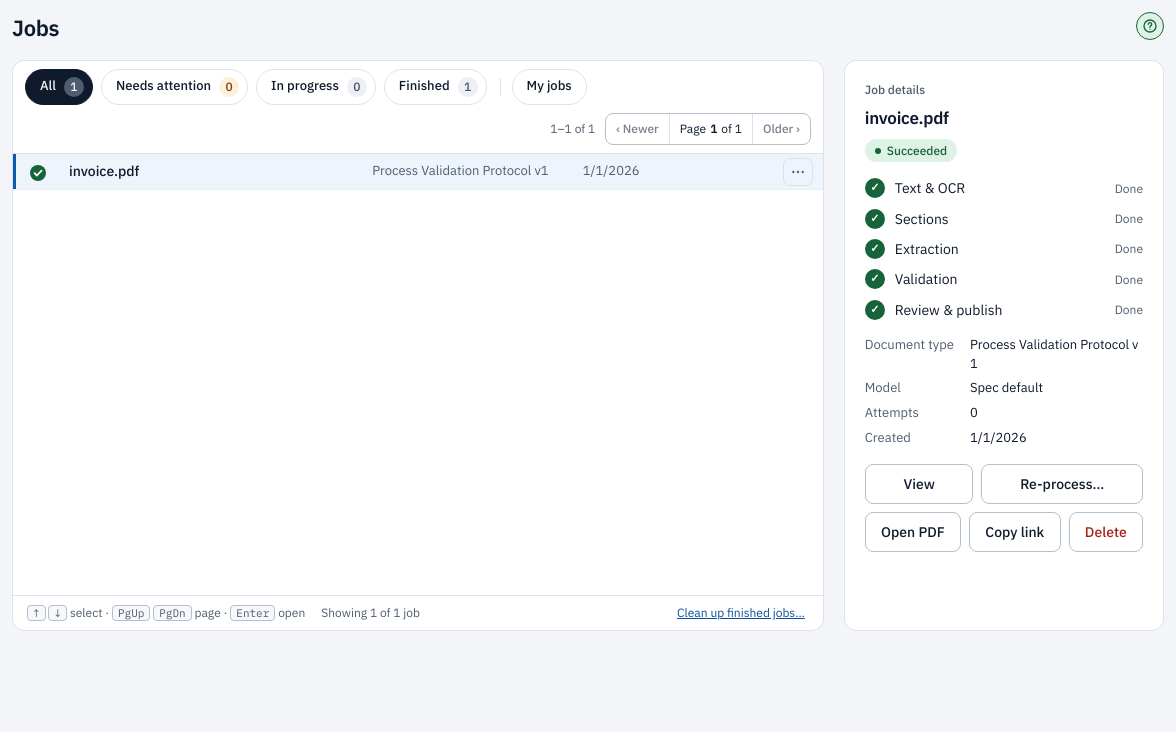
Test: JobsPage › opens the clean-up controls from the footer
The width and height of the screenshot is (1176, 732).
Click the button "Clean up finished jobs…" at x=741, y=613, box [673, 604, 809, 622]
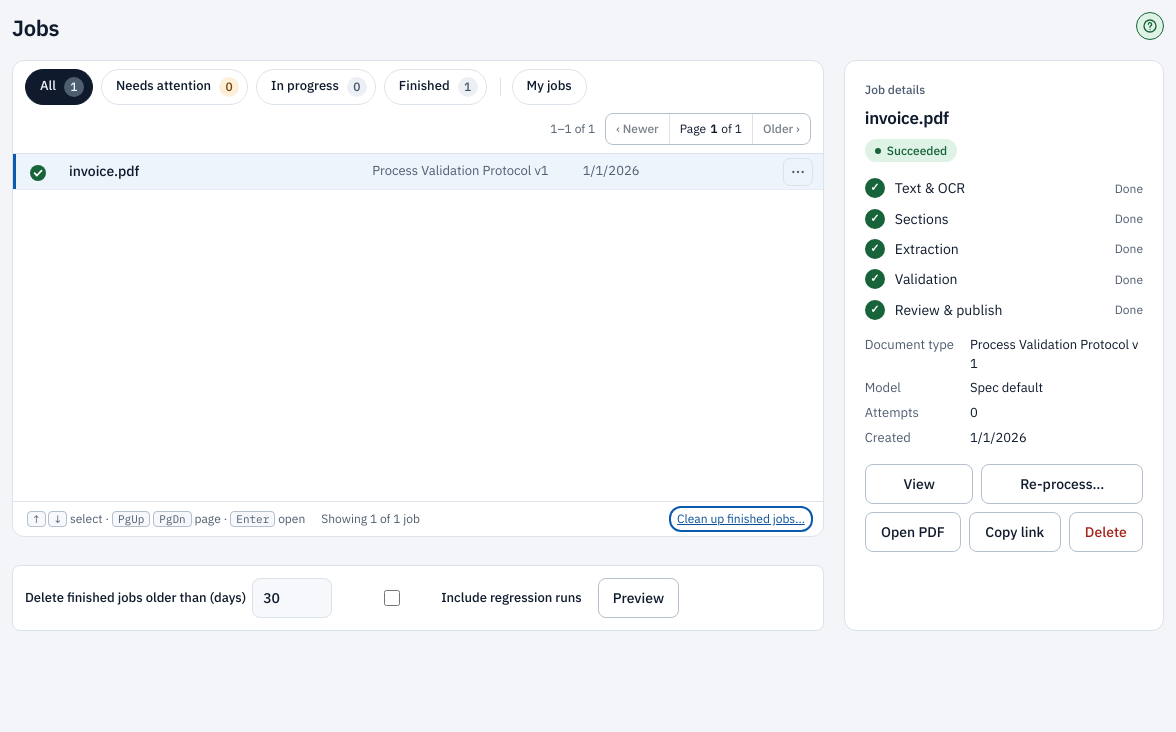
expect the button "Clean up finished jobs…" is expanded: met, box [673, 510, 809, 528]
expect the element named "Clean up old jobs" is shown: met, box [12, 565, 824, 631]
